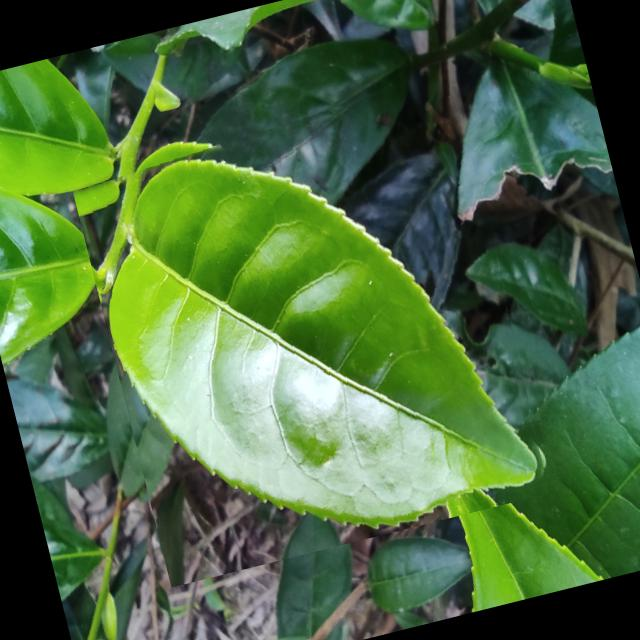Category B(2-4 days): (65, 70, 558, 588)
